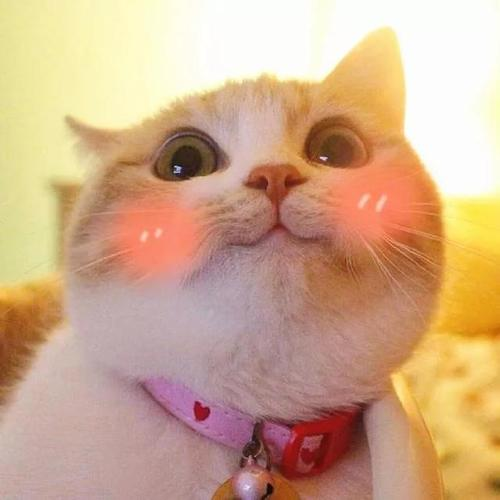cat: (35, 76, 460, 416)
